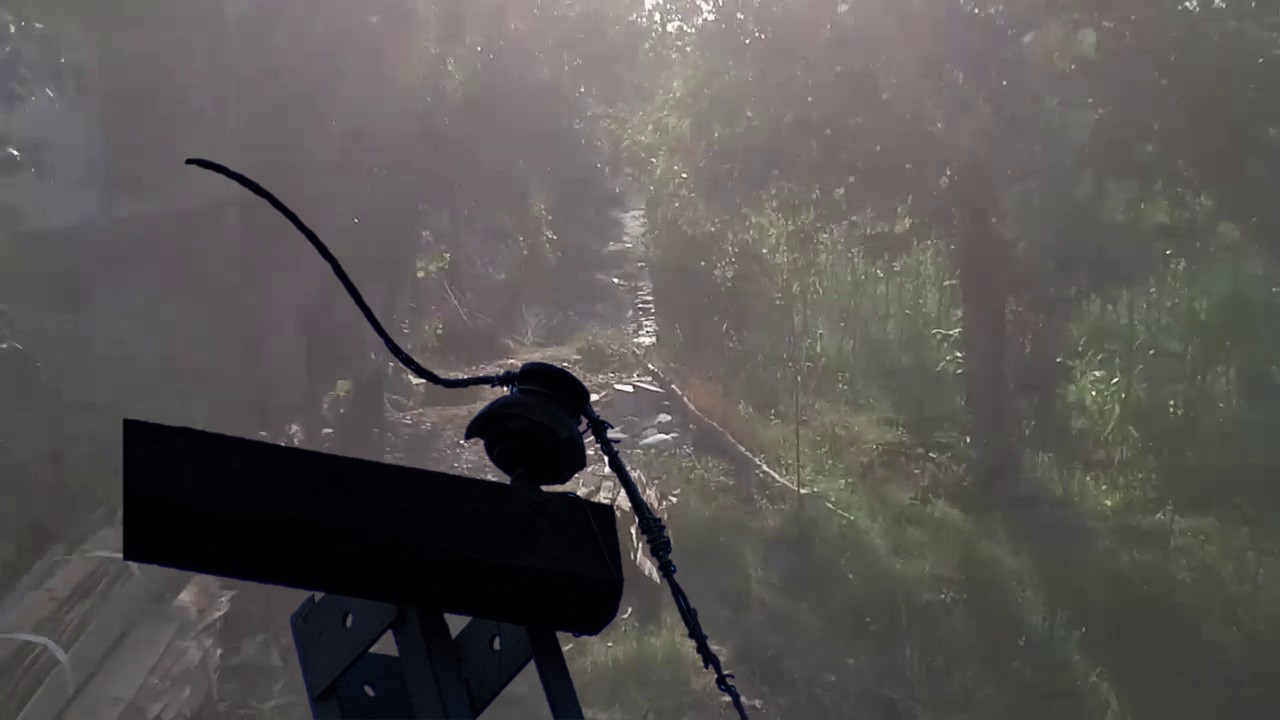defect_pin: (458, 355, 601, 491)
